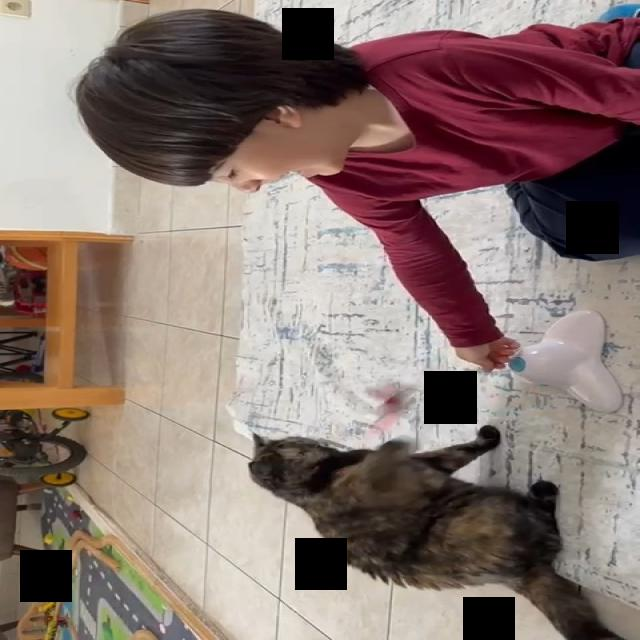authorized: (246, 424, 626, 639)
